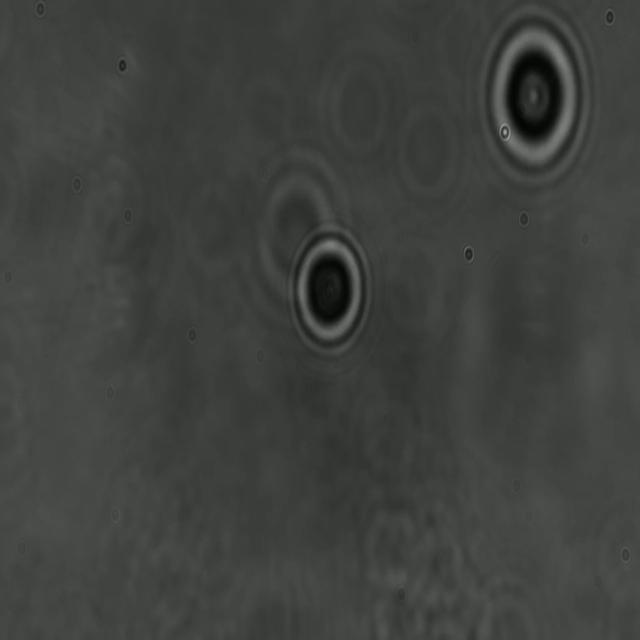DCELL: (282, 212, 378, 366)
LCELL: (475, 0, 594, 192)
